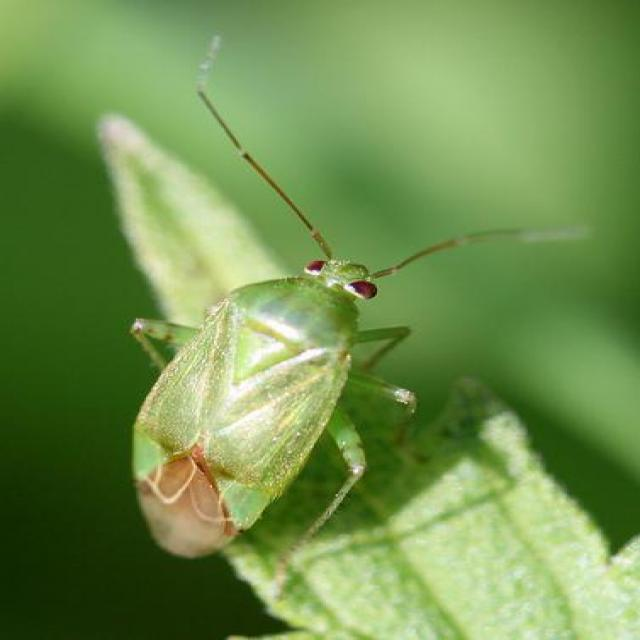Miridae-Adult-: (78, 25, 587, 562)
